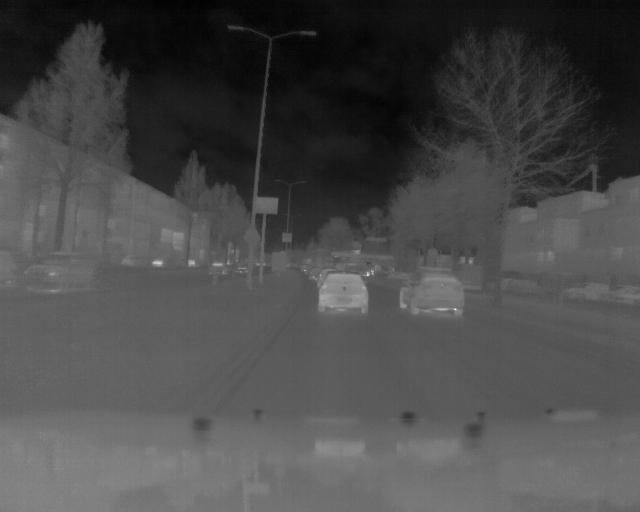car: (398, 271, 469, 321), (316, 273, 373, 316)
